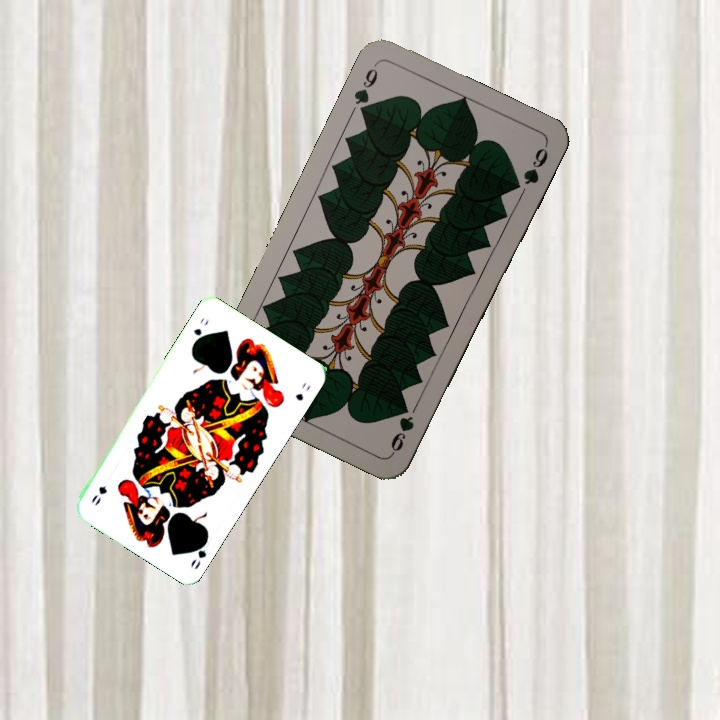G9: (386, 401, 420, 456), (350, 60, 381, 119)
GO: (186, 533, 211, 572), (189, 314, 212, 348)
